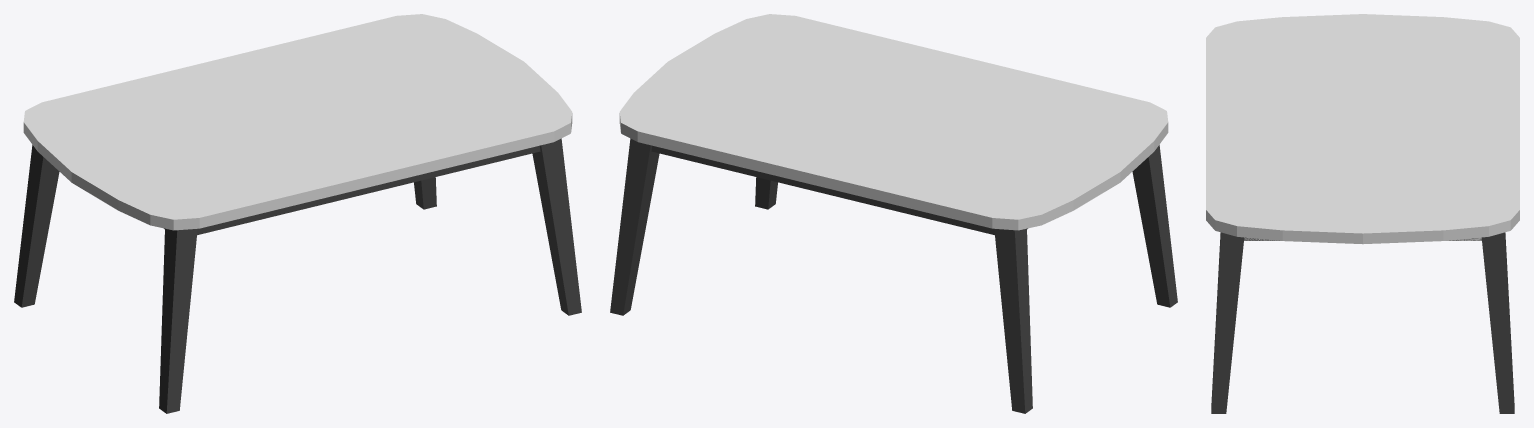
File: SmallTable_01_C2.fbx
3 views of the same model, side by side, from view 1: azimuth 30°, elevation 25°; view 2: azimuth 150°, elevation 25°; view 3: azimuth 270°, elevation 25° (orthographic).
Visible parts, largest first — view 1: SmallTable_01_C2; view 2: SmallTable_01_C2; view 3: SmallTable_01_C2.
Boxes of the visible parts, x1,y1,x2,y2 form: SmallTable_01_C2: (14,14,581,413); SmallTable_01_C2: (610,14,1177,413); SmallTable_01_C2: (1206,14,1519,413).
Bounding box in the file's own units: 109 × 43.86 × 65.85.
